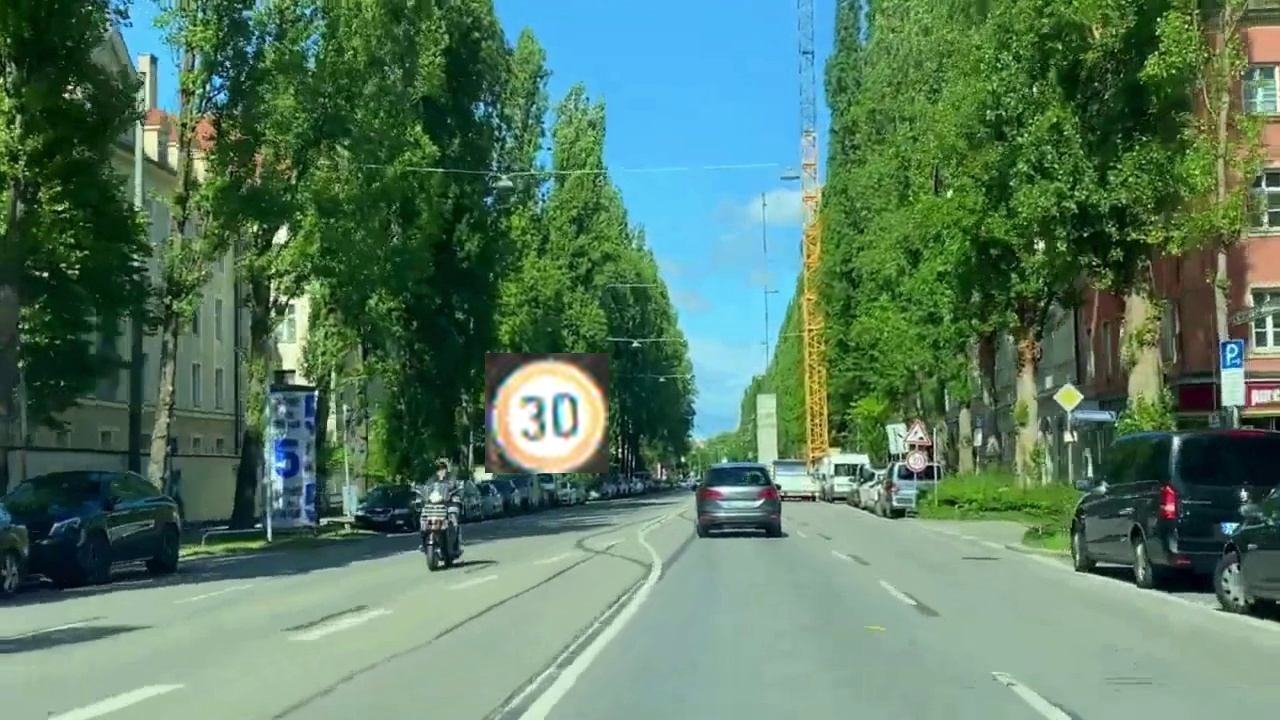Speed 30: (485, 353, 609, 473)
